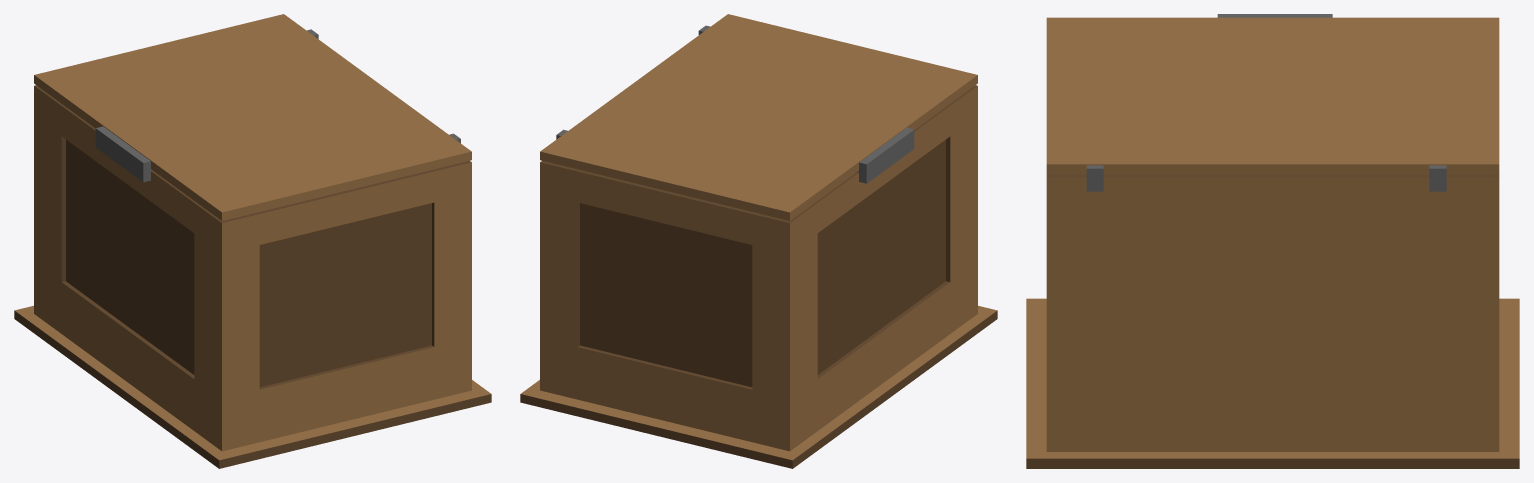
The model's file is Coffre.glb.
3 views of the same model, side by side, from view 1: azimuth 30°, elevation 25°; view 2: azimuth 150°, elevation 25°; view 3: azimuth 270°, elevation 25° (orthographic). The views are drawn at different scales.
Visible parts, largest first — view 1: Cube; view 2: Cube; view 3: Cube.
Part boxes in pixels (<box>): Cube: <box>14,14,491,468</box>; Cube: <box>520,14,997,468</box>; Cube: <box>1026,14,1519,468</box>.
Size of the model in its own units: 0.9273 by 0.8056 by 1.21.
